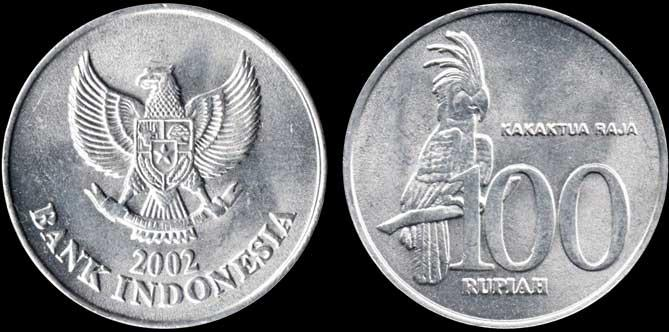coin_100_e1999: (326, 0, 669, 332)
